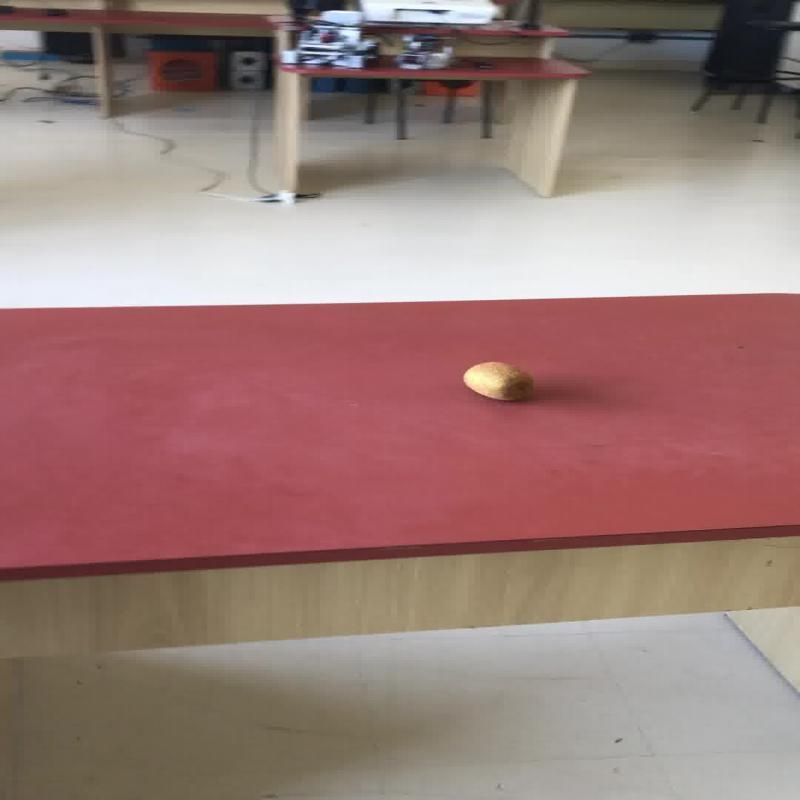kiwi: (462, 360, 532, 401)
